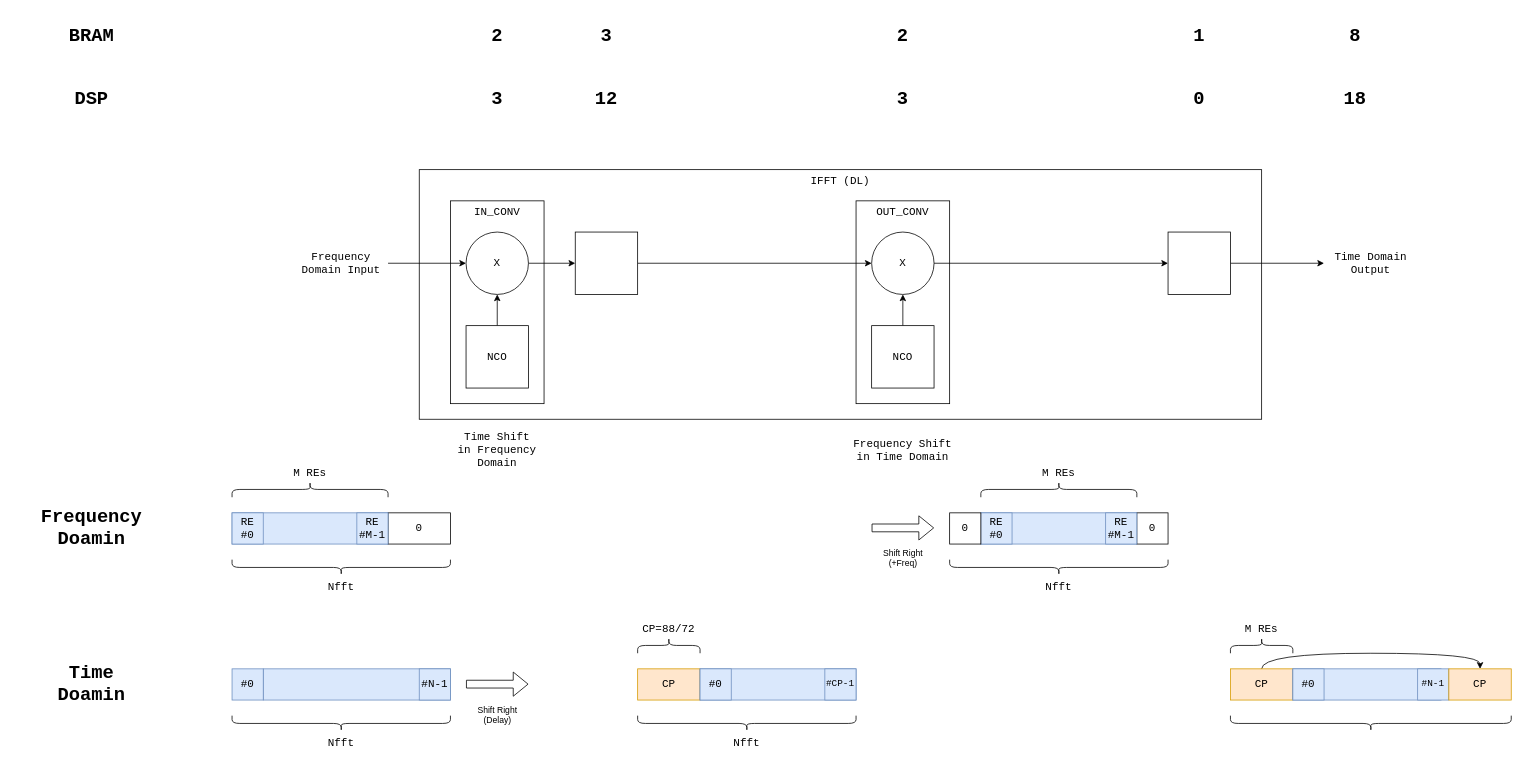
This 1525x763 diagram has some shape labels left out. Here are the shapes that lost their labels. From the top down, the centre of each, then its label:
At (606,262): "FFT Transform".
At (1198,262): "CP Buffer".
At (1370,723): "Nfft + CP".
